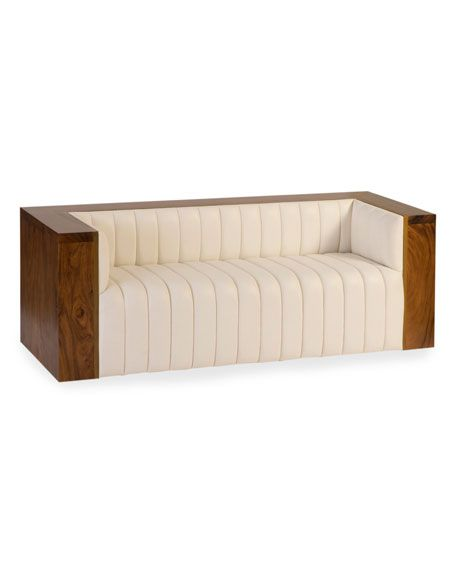3seatersofa: (21, 193, 435, 381), (74, 200, 349, 264)
backrest: (67, 191, 352, 267)
leftarmrest: (352, 200, 403, 270)
leg: (21, 208, 95, 380), (354, 192, 435, 348)
rightarmrest: (99, 230, 109, 293)
seat: (100, 254, 401, 375)
